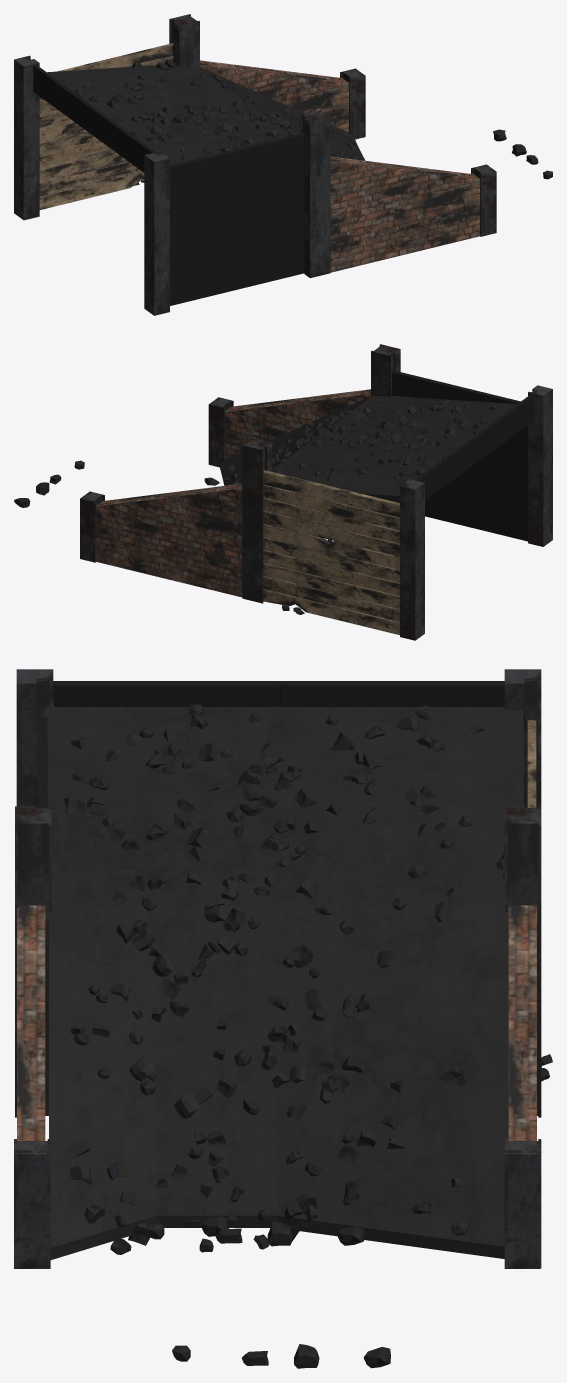
Rendered from coal-bin.glb.
3 renders of one model, top to bottom at view 1: azimuth 30°, elevation 25°; view 2: azimuth 150°, elevation 25°; view 3: azimuth 270°, elevation 25°, orthographic. The views are drawn at different scales.
Visible parts, largest first — view 1: coal_deposit, fake.001; view 2: coal_deposit, fake.001; view 3: coal_deposit, fake.001.
Boxes of the visible parts, x1=… form: coal_deposit: x1=14, y1=14, x2=552, y2=315; fake.001: x1=33, y1=65, x2=304, y2=305; coal_deposit: x1=14, y1=344, x2=552, y2=640; fake.001: x1=392, y1=370, x2=533, y2=541; coal_deposit: x1=14, y1=669, x2=552, y2=1368; fake.001: x1=38, y1=681, x2=504, y2=807.
Bounding box in the file's own units: 6.03 × 2.1 × 3.34.
2 materials, 1 textured.
